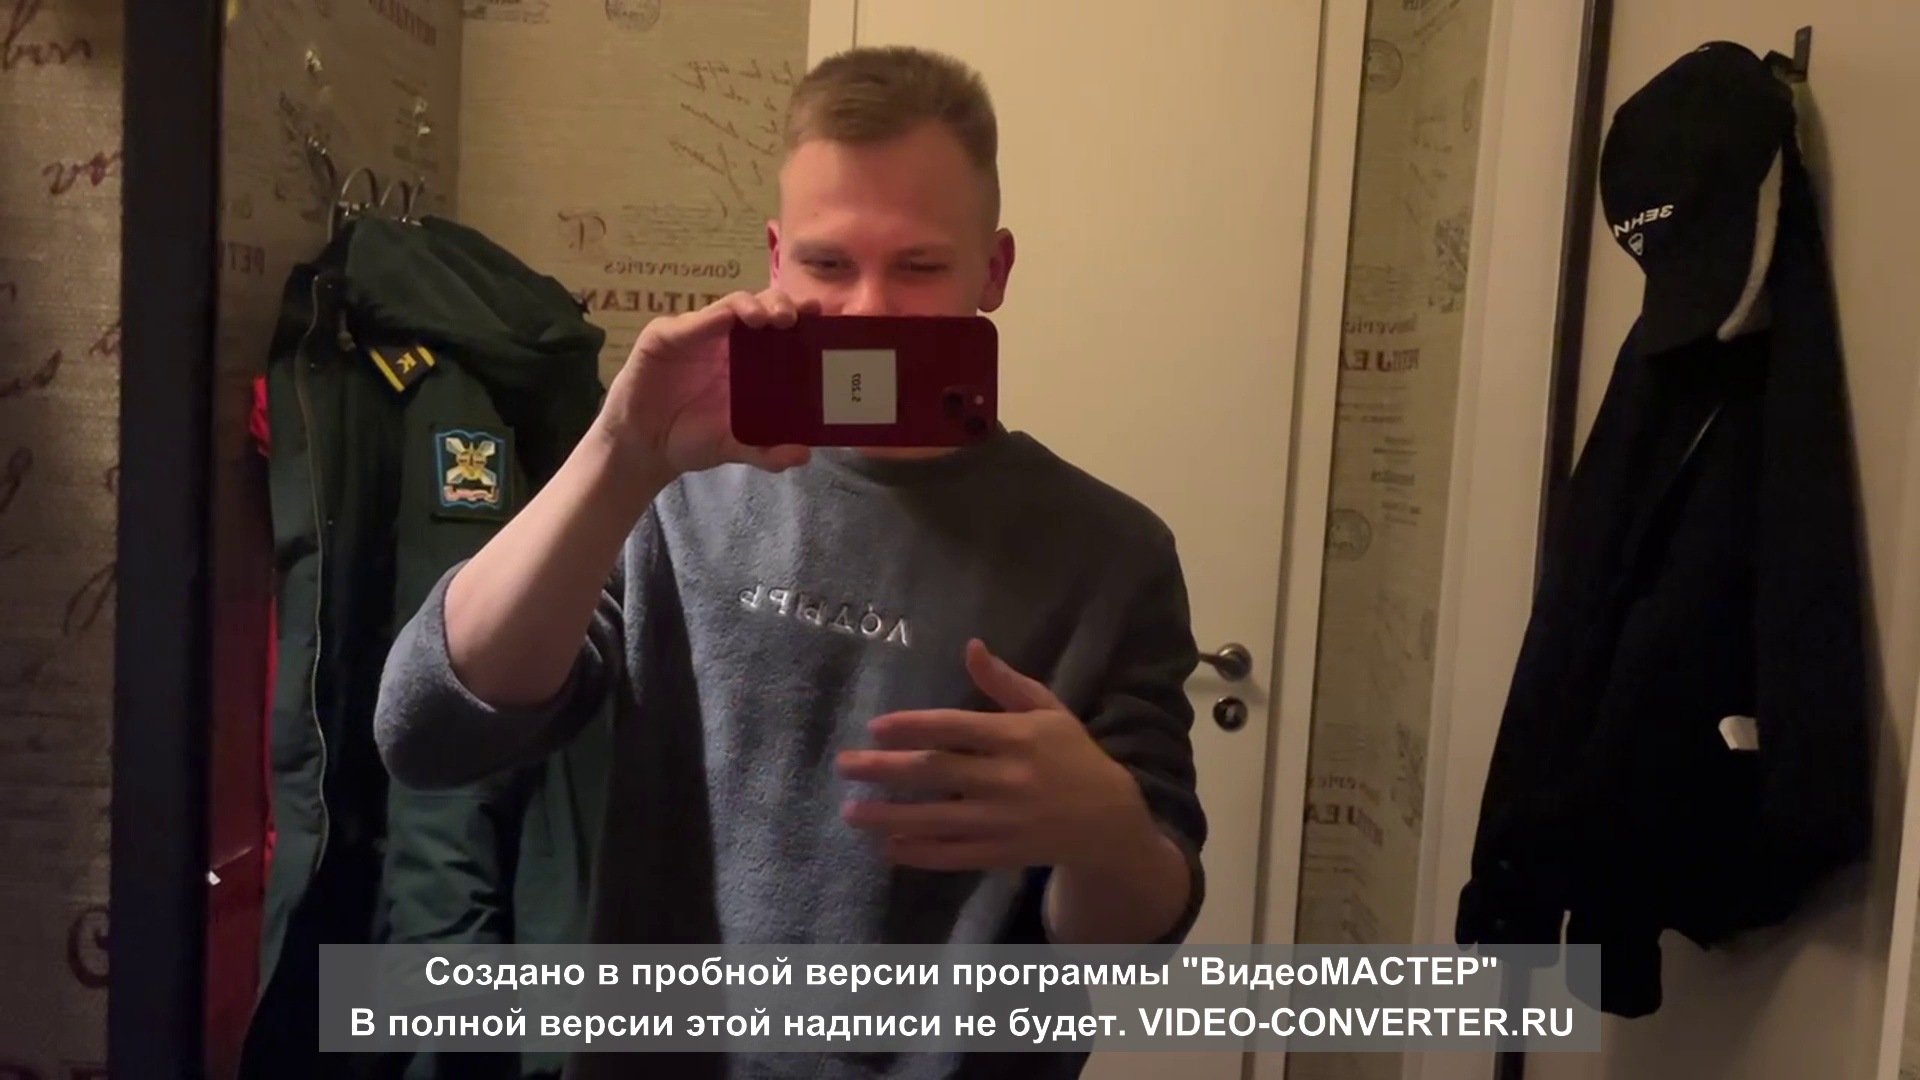Кисть: (841, 641, 1124, 869)
